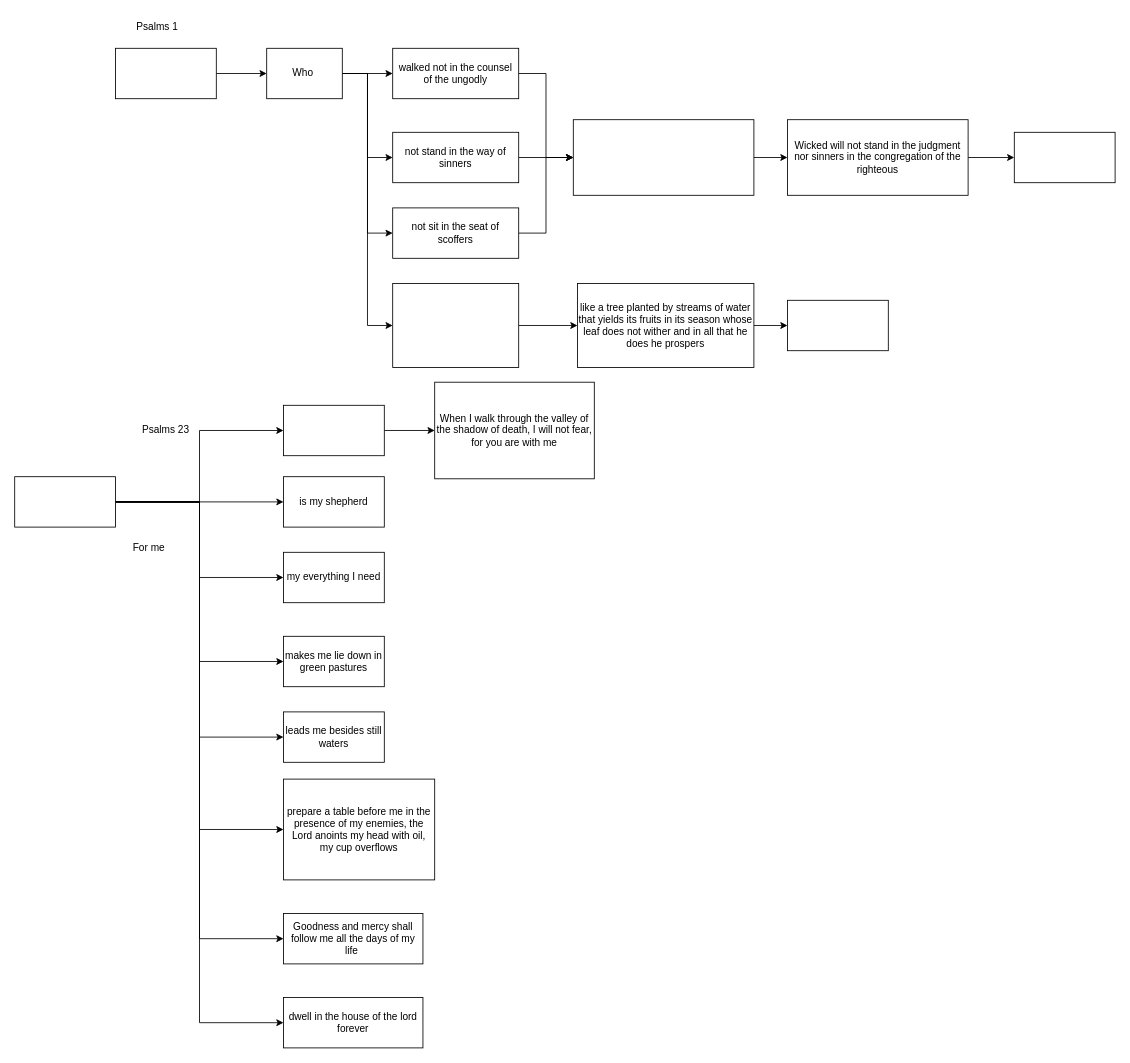
The diagram is 1130 pixels wide and 1063 high, and some of its shapes have lost their labels. Here are the shapes that lost their labels. From the top down, the centre of each, then its label:
At pixel 165 73: "Blessed is the man".
At pixel 663 157: "Wicked are like chaff that the wind drives away".
At pixel 1064 157: "way of wicked will perish".
At pixel 455 325: "delight in the law of the lord and on his law he meditates day and night".
At pixel 837 325: "Lord knows the way of the righteous".
At pixel 333 430: "Lord rod and staff protect".
At pixel 65 501: "The Lord".
